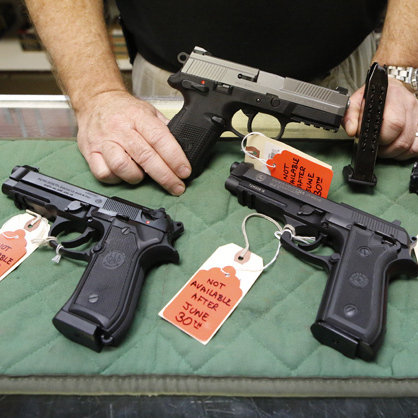Gun: (233, 179, 396, 332), (13, 156, 143, 308), (187, 50, 344, 157)
